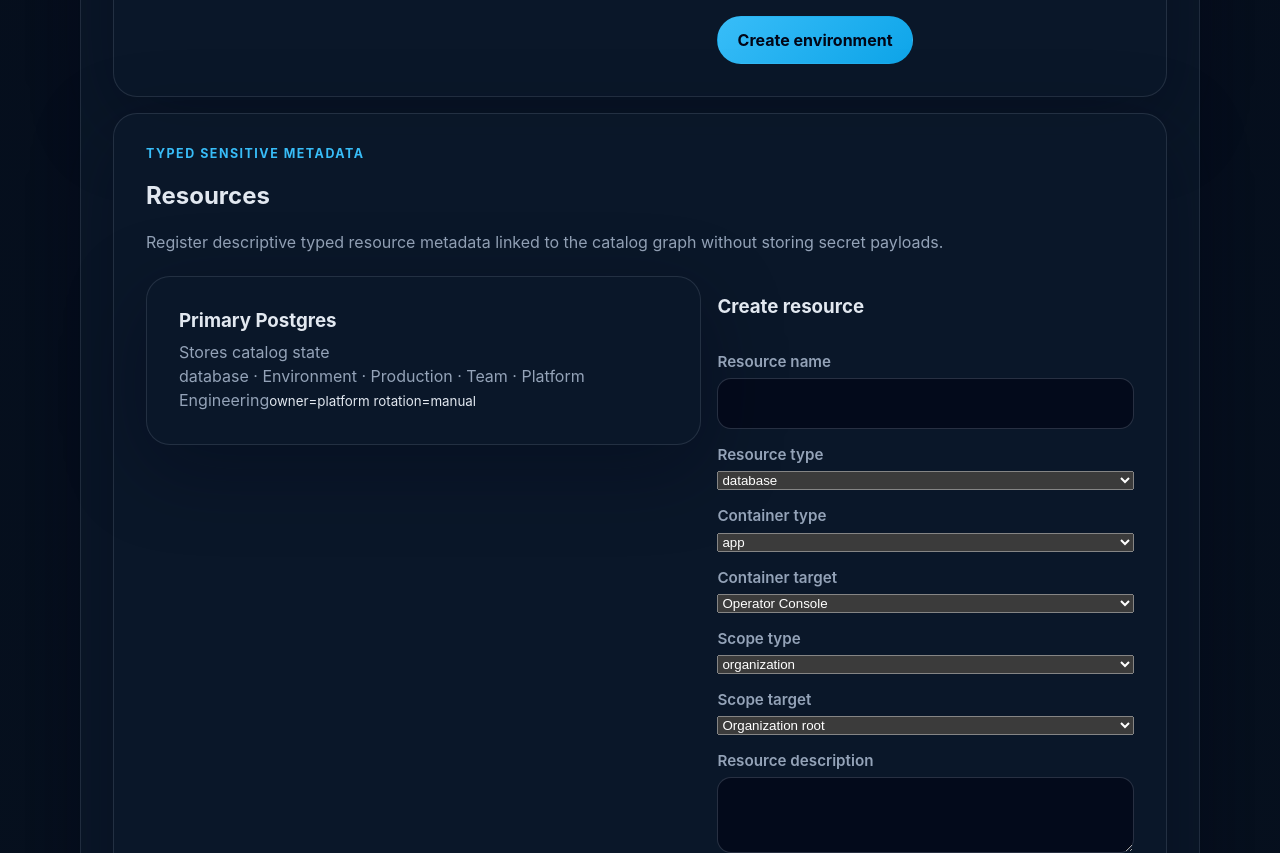
Test: catalog workspace › surfaces audited resource failures in-place without losing the machine-readable code
(page scrolled)
Expected: the heading "Primary Postgres" is shown, [179,309,337,332]
Type "Primary Postgres" into the field labelled "Resource name".
click(926, 404); type("Primary Postgres")  # box [717,378,1134,429]
(page scrolled)
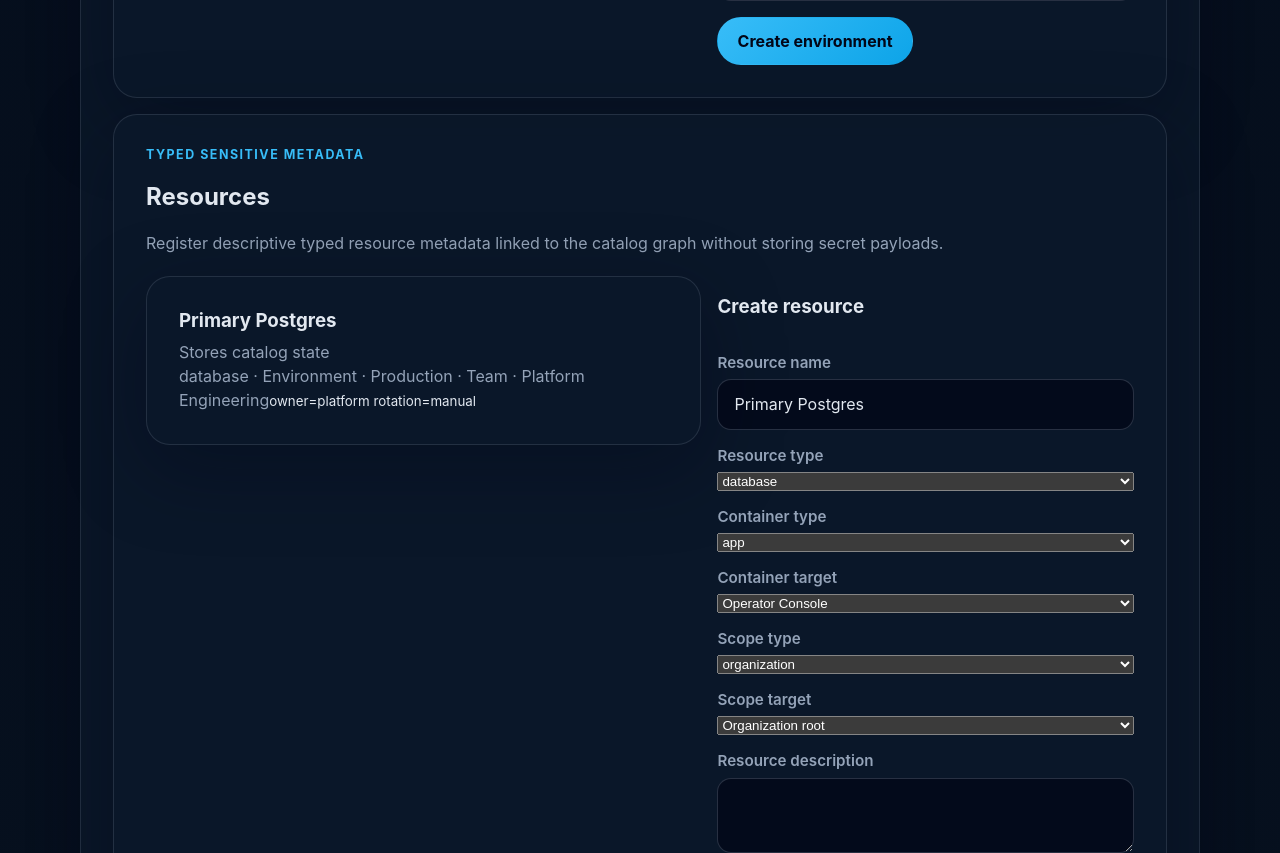
Select "database" in the dropdown labelled "Resource type" at (926, 481), box [717,472,1134,491]
Select "environment" in the dropdown labelled "Container type" at (926, 542), box [717,533,1134,552]
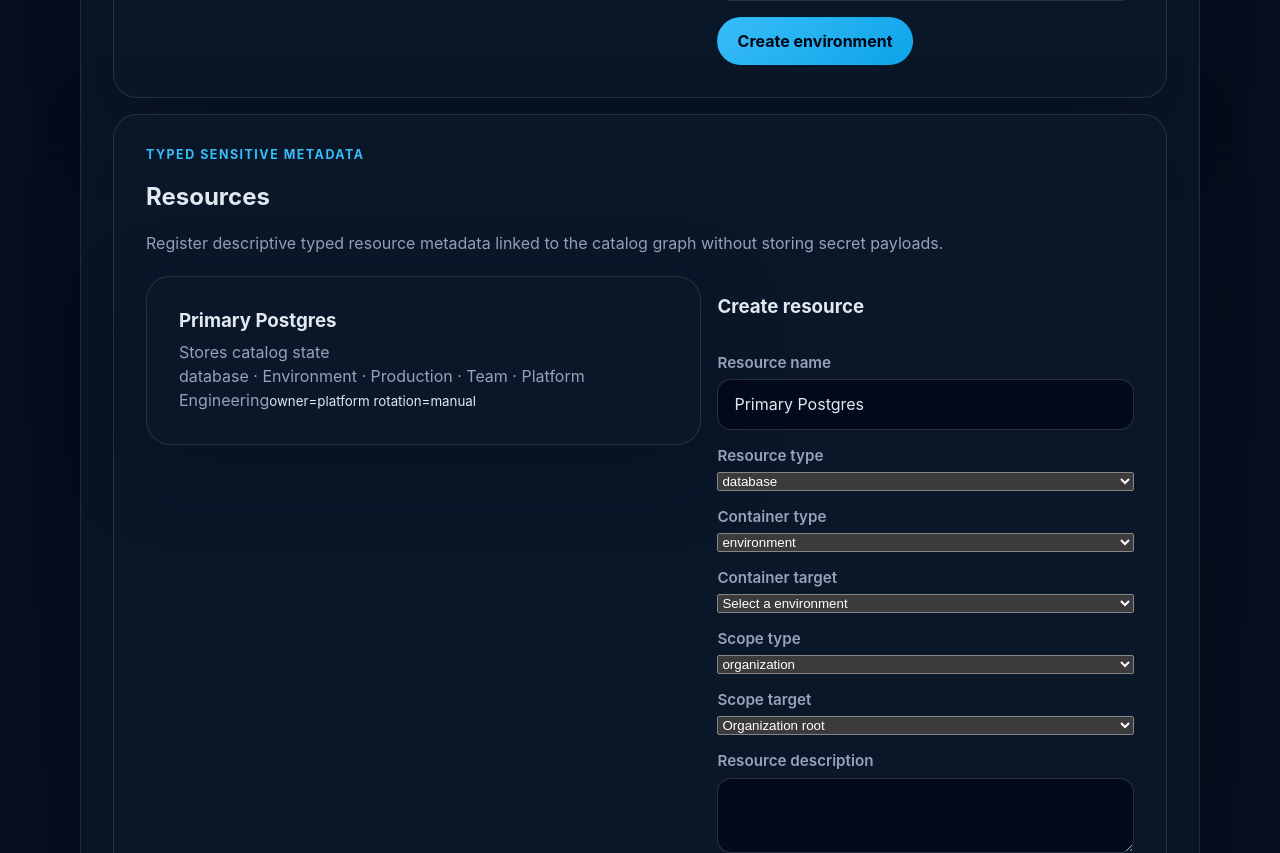
Select "Production" in the dropdown labelled "Container target" at (926, 604), box [717,594,1134,613]
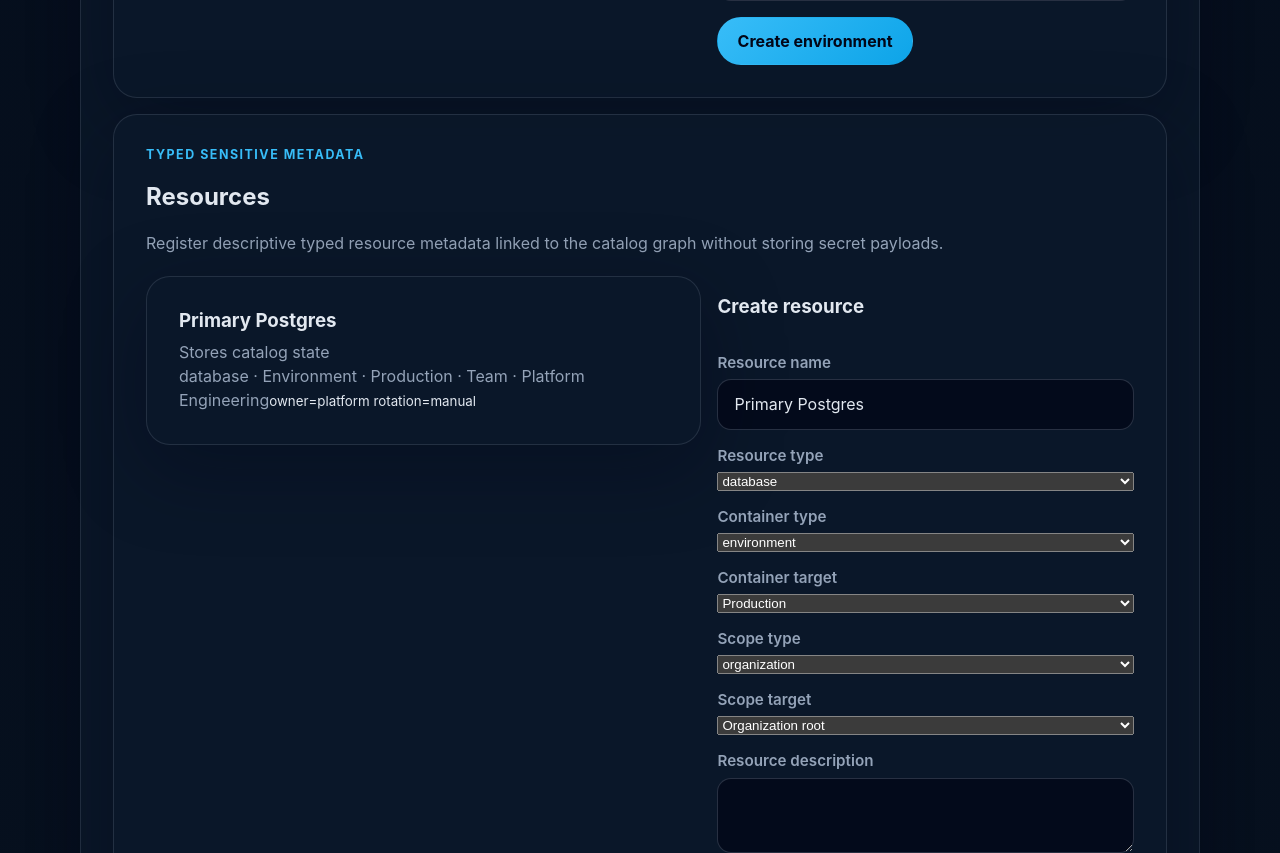
Select "team" in the dropdown labelled "Scope type" at (926, 665), box [717,655,1134,674]
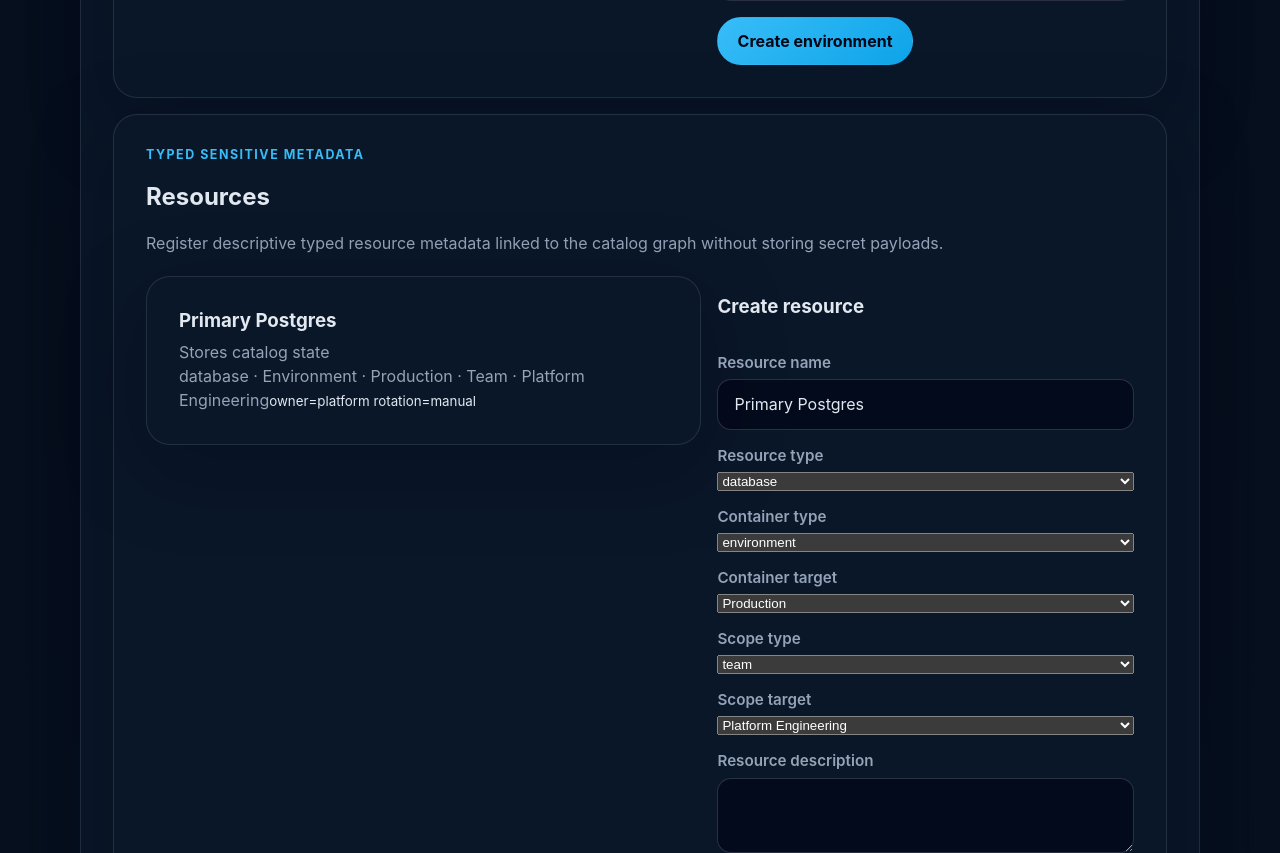
Select "Platform Engineering" in the dropdown labelled "Scope target" at (926, 726), box [717,716,1134,736]
(page scrolled)
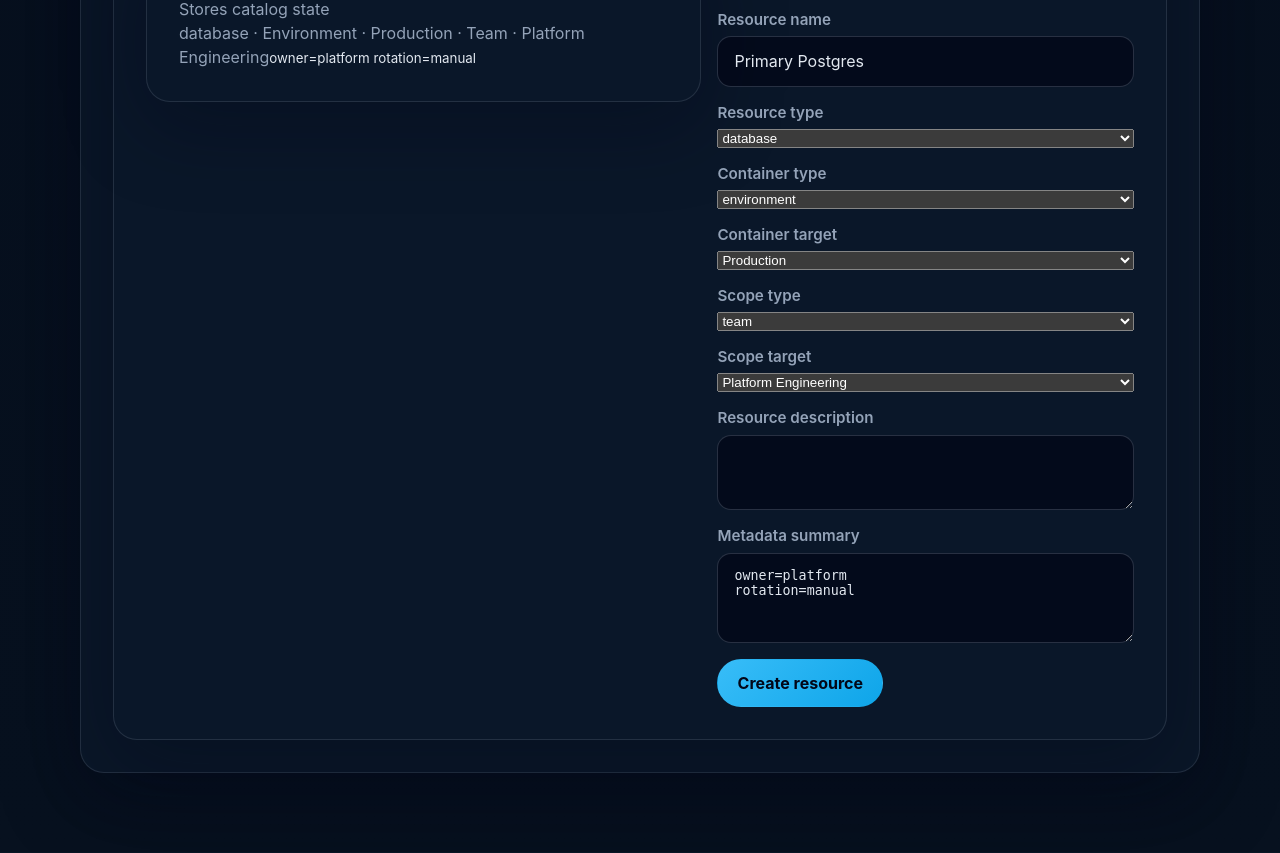
Click the button "Create resource".
click(800, 683)  # box [717,659,883,707]
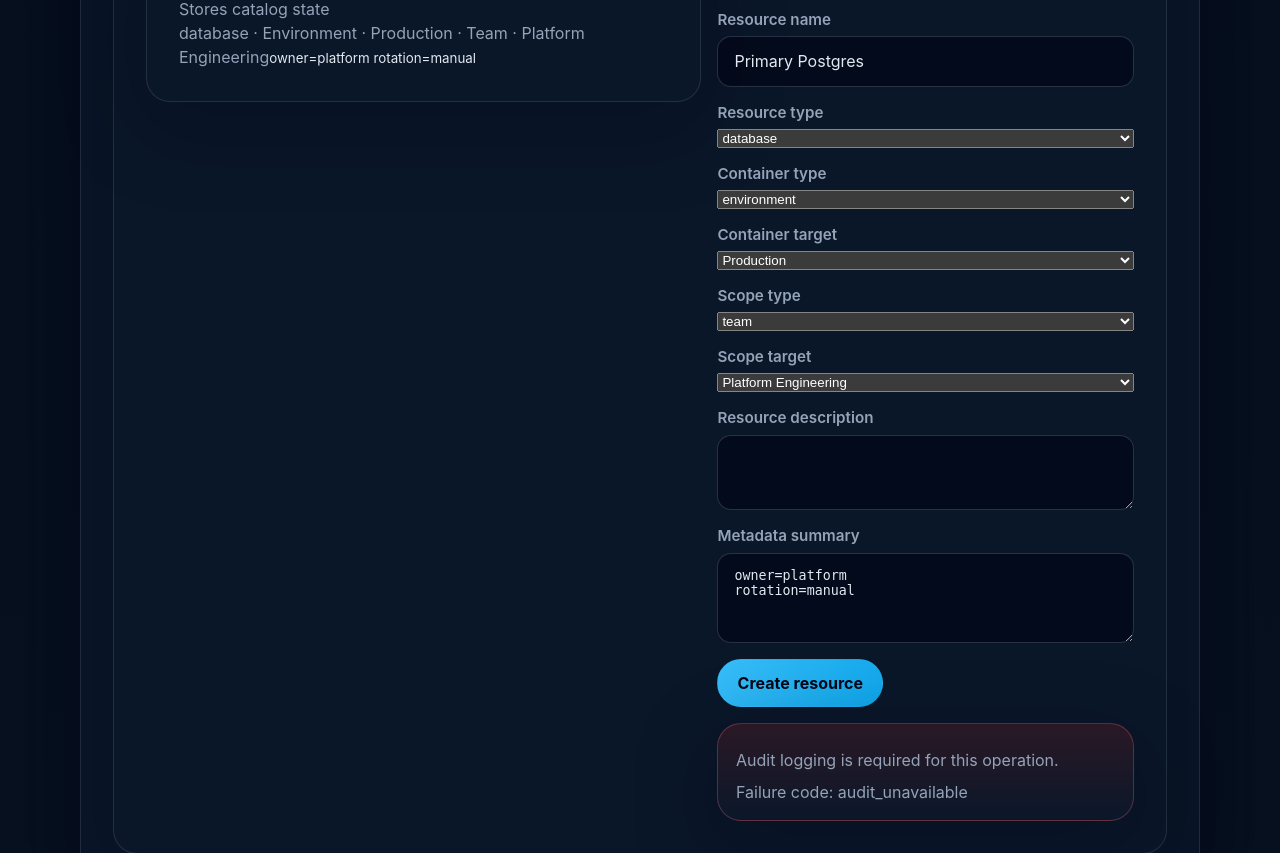
Now the text "Audit logging is required for this operation." is shown, box [736,748,1115,772]
Now the text "Failure code: audit_unavailable" is shown, box [736,782,968,802]
